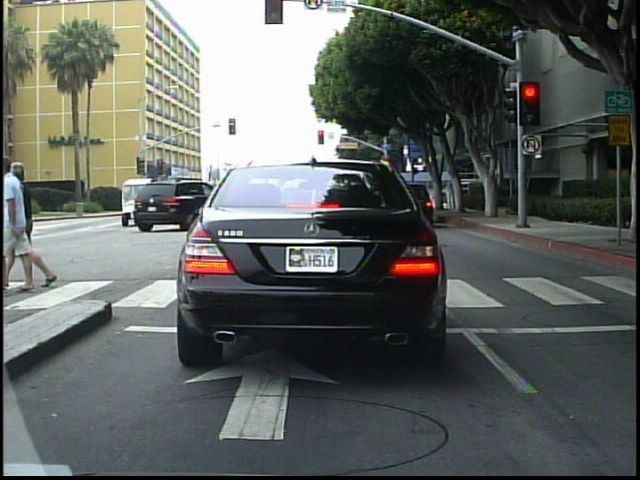person: (6, 150, 53, 297), (16, 153, 46, 294), (443, 180, 455, 213)
